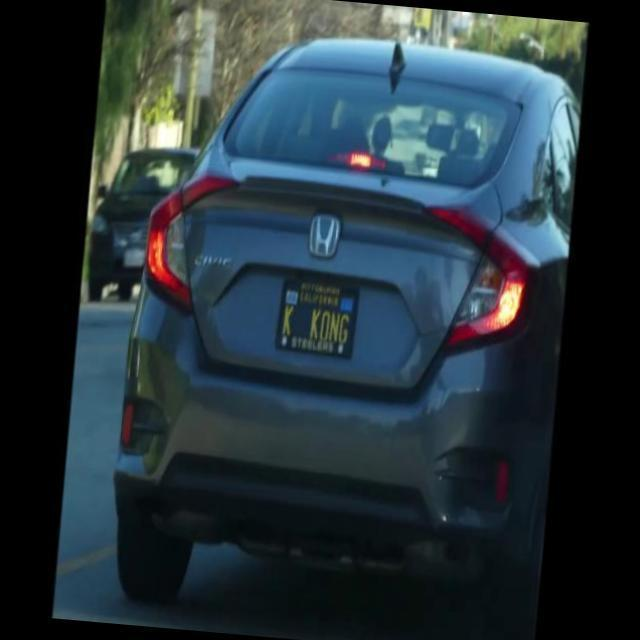License Plate: (272, 268, 360, 364)
